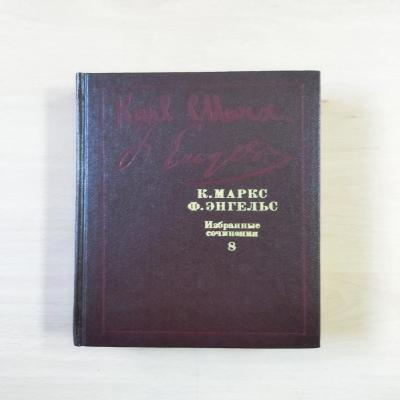rare_books: (72, 72, 322, 350)
